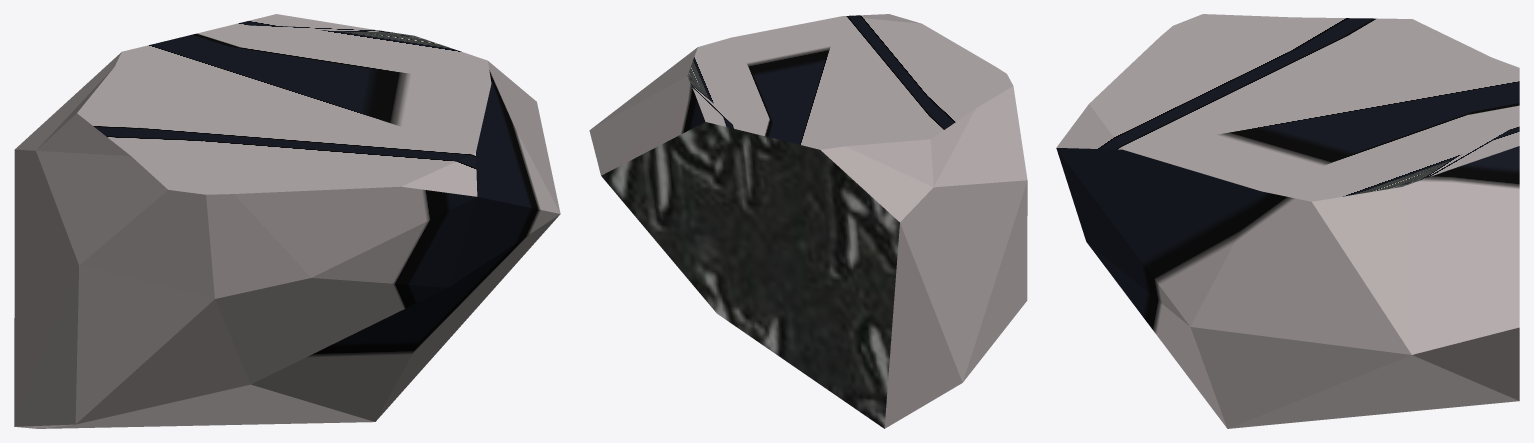
The model's file is rock1.obj.
The picture shows the model from 3 angles, left to right: view 1: azimuth 30°, elevation 25°; view 2: azimuth 150°, elevation 25°; view 3: azimuth 270°, elevation 25°; orthographic projection. The views are drawn at different scales.
Parts seen in each view (by area): view 1: rock1:Mesh; view 2: rock1:Mesh; view 3: rock1:Mesh.
Boxes of the visible parts, x1,y1,x2,y2 form: rock1:Mesh: (14,14,560,428); rock1:Mesh: (589,14,1027,428); rock1:Mesh: (1056,14,1519,428).
Bounding box in the file's own units: 37.35 × 24.16 × 27.6.
